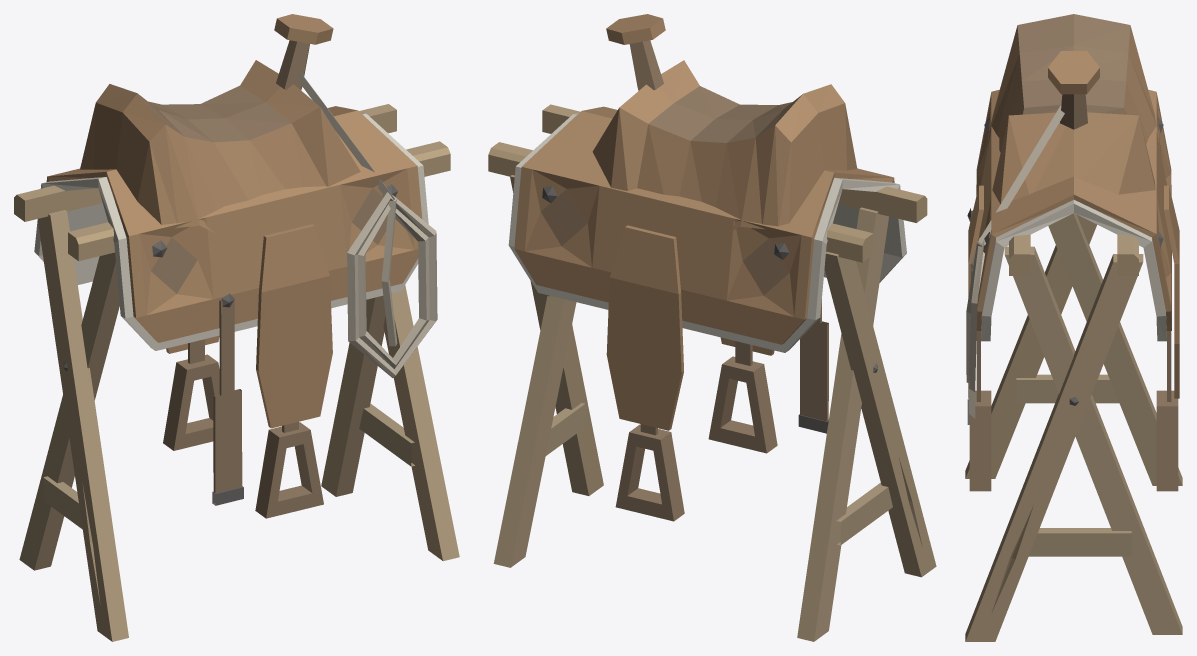
File: chest.glb
The picture shows the model from 3 angles, left to right: view 1: azimuth 30°, elevation 25°; view 2: azimuth 150°, elevation 25°; view 3: azimuth 270°, elevation 25°; orthographic projection.
Parts seen in each view (by area): view 1: chest; view 2: chest; view 3: chest.
Boxes of the visible parts, left/top/right/bottom form: chest: left=14, top=14, right=459, bottom=641; chest: left=488, top=14, right=936, bottom=641; chest: left=965, top=14, right=1182, bottom=641.
Bounding box in the file's own units: 1.1 × 1.48 × 0.55.
